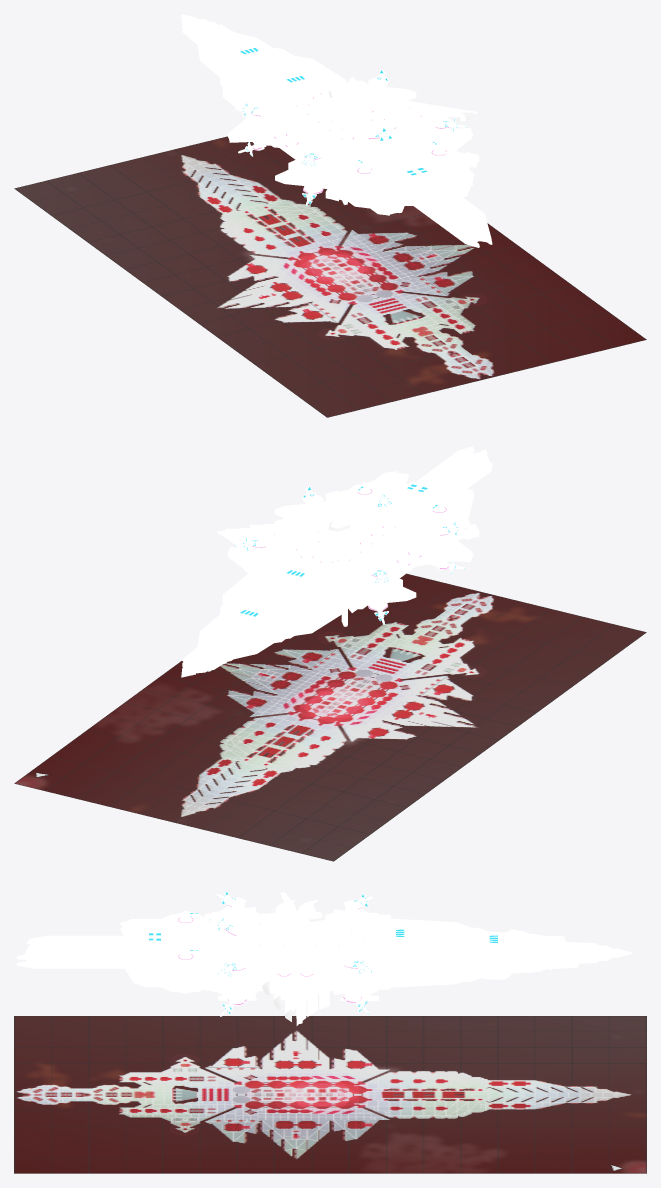
The model's file is Kantogawa Assault Battlecruiser.glb.
The picture shows the model from 3 angles, top to bottom: view 1: azimuth 30°, elevation 25°; view 2: azimuth 150°, elevation 25°; view 3: azimuth 270°, elevation 25°; orthographic projection.
Parts seen in each view (by area): view 1: Kantogawa Assault Battlecruiser, Plane.001, Plane, Plane.002, Plane.008, Cube.001, Plane.006, Plane.007, Cube.002, Plane.004, Plane.050, Plane.051 (+2 smaller); view 2: Kantogawa Assault Battlecruiser, Plane.001, Plane, Plane.008, Plane.002, Cube.002, Cube.001, Plane.004, Plane.007, Plane.006, Plane.050, Plane.051 (+1 smaller); view 3: Kantogawa Assault Battlecruiser, Plane.001, Plane.008, Plane, Plane.002, Plane.007, Cube.001, Cube.002, Plane.005, Plane.003, Cube, Plane.050 (+2 smaller).
Boxes of the visible parts, <box> form: Kantogawa Assault Battlecruiser: <box>14,136,646,417</box>; Plane.001: <box>181,14,346,116</box>; Plane: <box>249,77,449,189</box>; Plane.002: <box>341,141,474,215</box>; Plane.008: <box>388,164,492,247</box>; Cube.001: <box>285,84,406,162</box>; Plane.006: <box>275,156,328,188</box>; Plane.007: <box>383,99,477,125</box>; Cube.002: <box>326,81,367,118</box>; Plane.004: <box>227,114,273,146</box>; Plane.050: <box>264,62,309,86</box>; Plane.051: <box>218,34,263,58</box>; Kantogawa Assault Battlecruiser: <box>14,573,646,861</box>; Plane.001: <box>181,561,346,677</box>; Plane: <box>249,497,448,612</box>; Plane.008: <box>388,446,492,510</box>; Plane.002: <box>341,471,474,533</box>; Cube.002: <box>326,490,367,543</box>; Cube.001: <box>286,506,406,581</box>; Plane.004: <box>362,573,416,605</box>; Plane.007: <box>217,518,311,547</box>; Plane.006: <box>427,533,473,565</box>; Plane.050: <box>264,569,309,597</box>; Plane.051: <box>218,609,263,636</box>; Kantogawa Assault Battlecruiser: <box>14,1016,646,1173</box>; Plane.001: <box>368,918,631,987</box>; Plane.008: <box>16,930,184,968</box>; Plane: <box>205,911,390,992</box>; Plane.002: <box>120,915,230,991</box>; Plane.007: <box>262,965,329,1025</box>; Cube.001: <box>197,924,396,955</box>; Cube.002: <box>265,892,332,933</box>; Plane.005: <box>213,971,255,1002</box>; Plane.003: <box>334,969,376,1000</box>; Cube: <box>252,925,349,943</box>; Plane.050: <box>392,923,447,946</box>.
Size of the model in its own units: 50.5 by 30.11 by 85.69.
16 materials, 1 textured.
